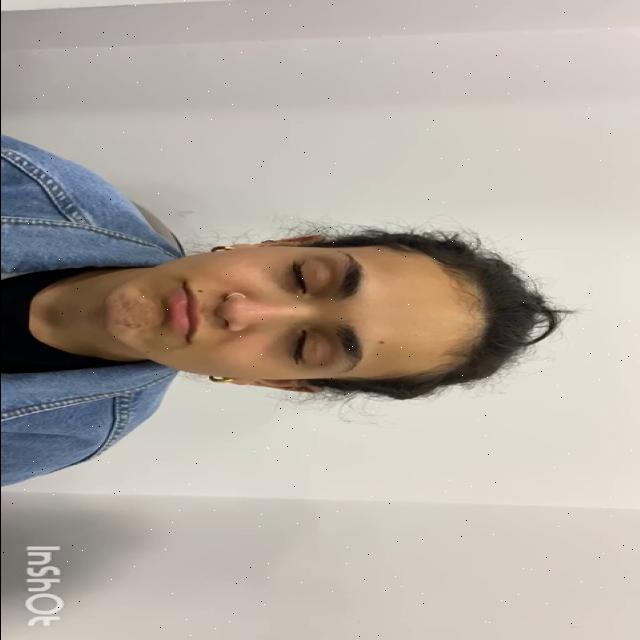natural: (107, 232, 473, 400)
